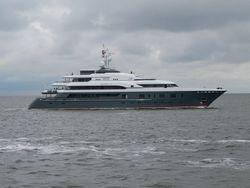yacht: (26, 44, 229, 111)
